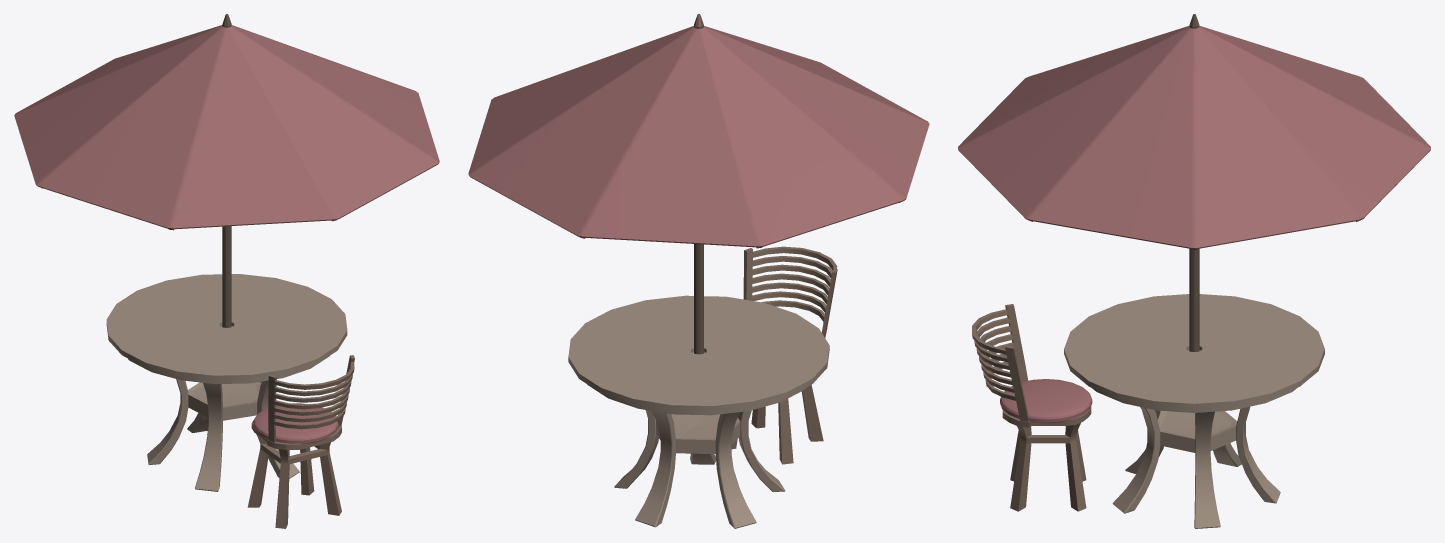
Rendered from UmbrellaTable.fbx.
3 renders of one model, left to right at view 1: azimuth 30°, elevation 25°; view 2: azimuth 150°, elevation 25°; view 3: azimuth 270°, elevation 25°, orthographic. The views are drawn at different scales.
Visible parts, largest first — view 1: pCone2, pCylinder7, pCylinder9; view 2: pCone2, pCylinder7, pCylinder9; view 3: pCone2, pCylinder7, pCylinder9.
Boxes of the visible parts, x1=… form: pCone2: x1=14, y1=14, x2=439, y2=327; pCylinder7: x1=106, y1=274, x2=347, y2=491; pCylinder9: x1=247, y1=355, x2=354, y2=528; pCone2: x1=468, y1=14, x2=929, y2=354; pCylinder7: x1=568, y1=295, x2=829, y2=528; pCylinder9: x1=731, y1=246, x2=837, y2=464; pCone2: x1=958, y1=14, x2=1430, y2=351; pCylinder7: x1=1064, y1=294, x2=1324, y2=528; pCylinder9: x1=972, y1=304, x2=1092, y2=511.
Bounding box in the file's own units: 18.87 × 21.12 × 18.87.
